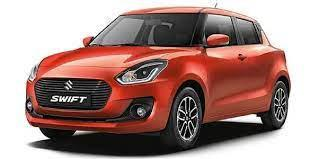Hatchback: (20, 4, 295, 154)
